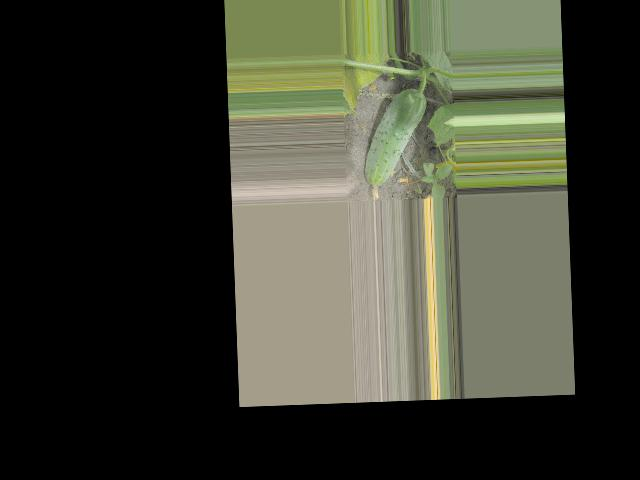cucumber: (361, 88, 429, 201)
